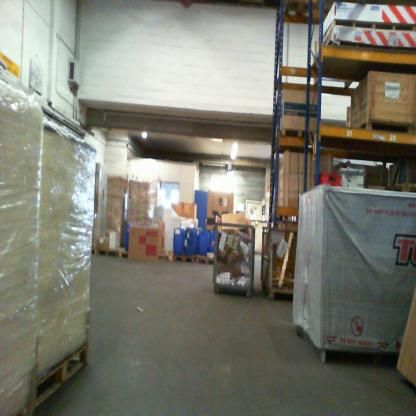pallet: (27, 337, 105, 413), (312, 15, 415, 37), (273, 123, 319, 151), (356, 119, 414, 138), (286, 1, 321, 25), (271, 206, 306, 225), (98, 239, 122, 255), (154, 245, 171, 264), (172, 251, 192, 264), (193, 253, 213, 263)
stillage: (257, 223, 303, 305), (211, 216, 253, 299)
